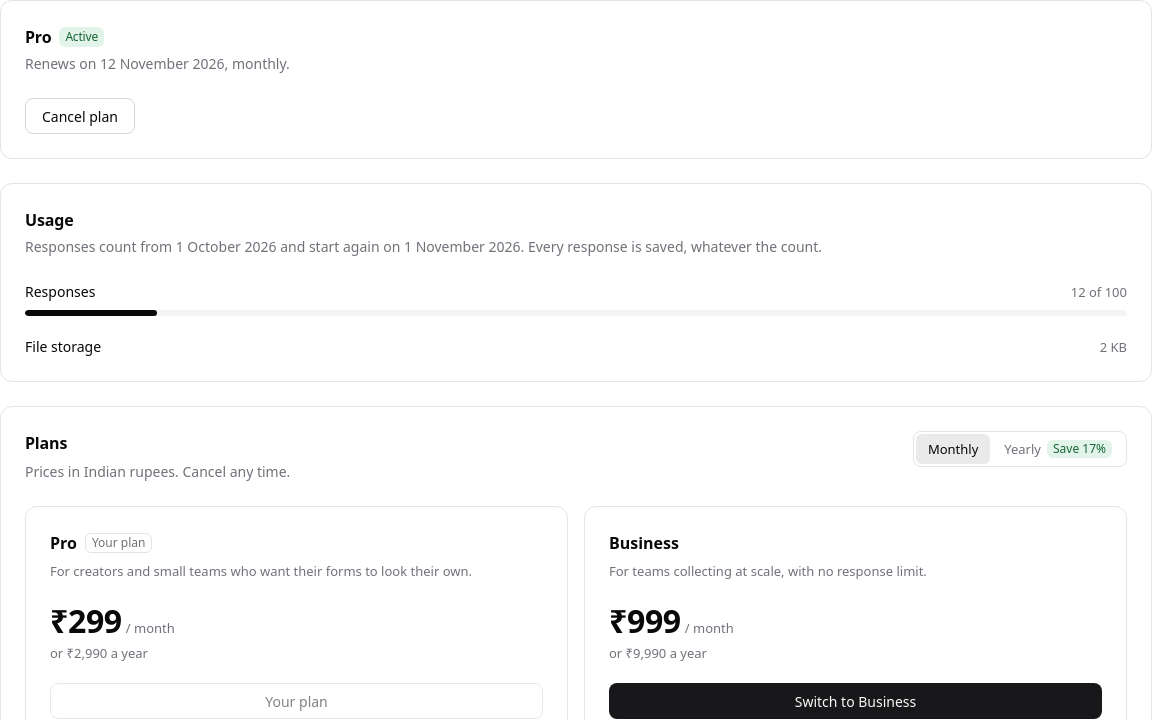
Test: BillingPage › cancels at the end of the period, with the reason if given
Click the button "Cancel plan": [80, 116] box [25,98,135,134]
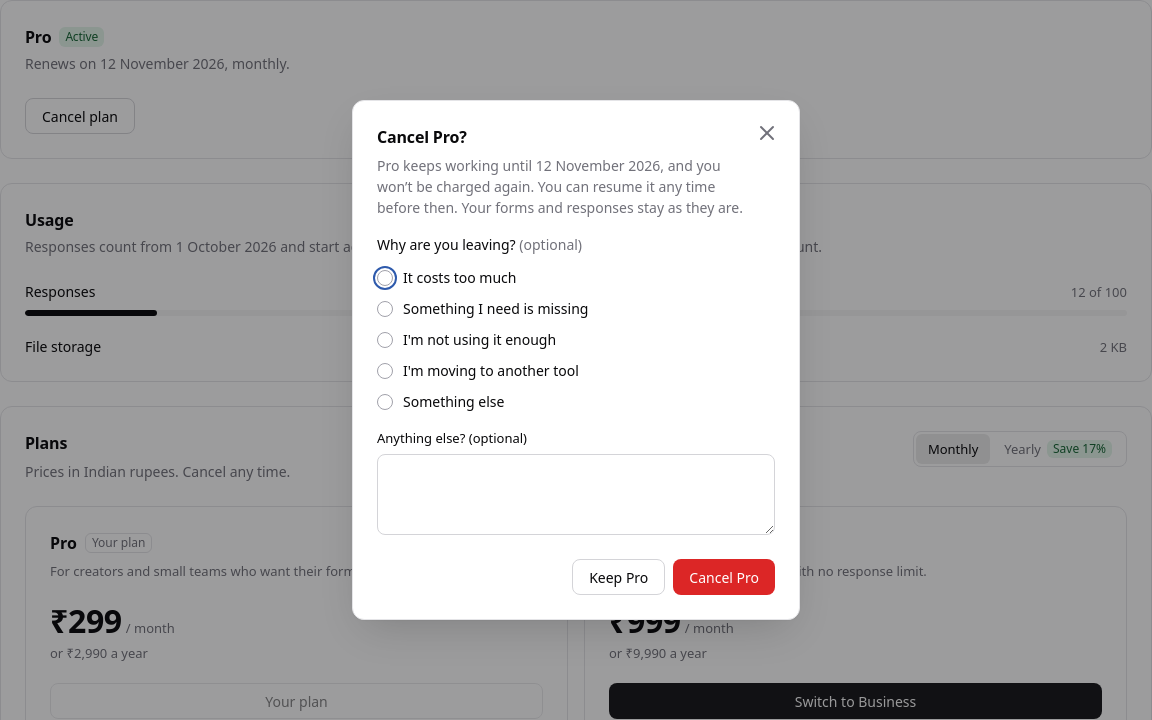
Result: the text "keeps working until 12 November 2026" is shown at [377,156,721,217]
Click the radio button named "It costs too much" next to "It costs too much": [385, 278] box [377,270,393,286]
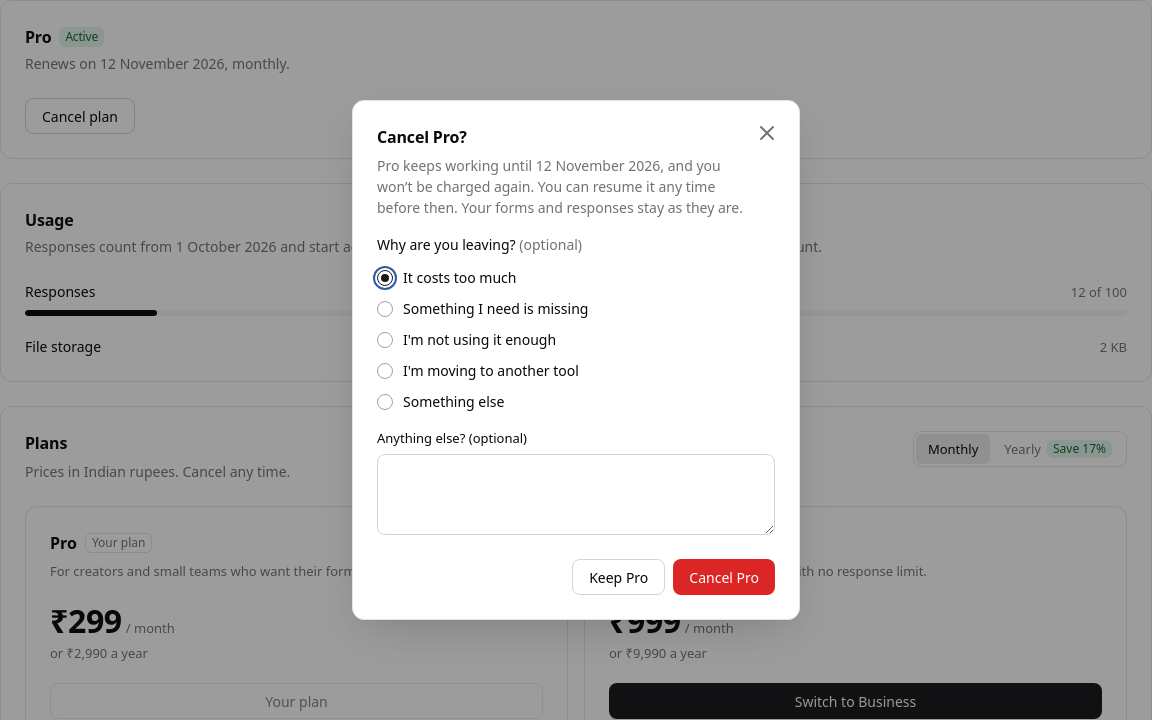
Click the button "Cancel Pro": [724, 577] box [673,559,775,595]
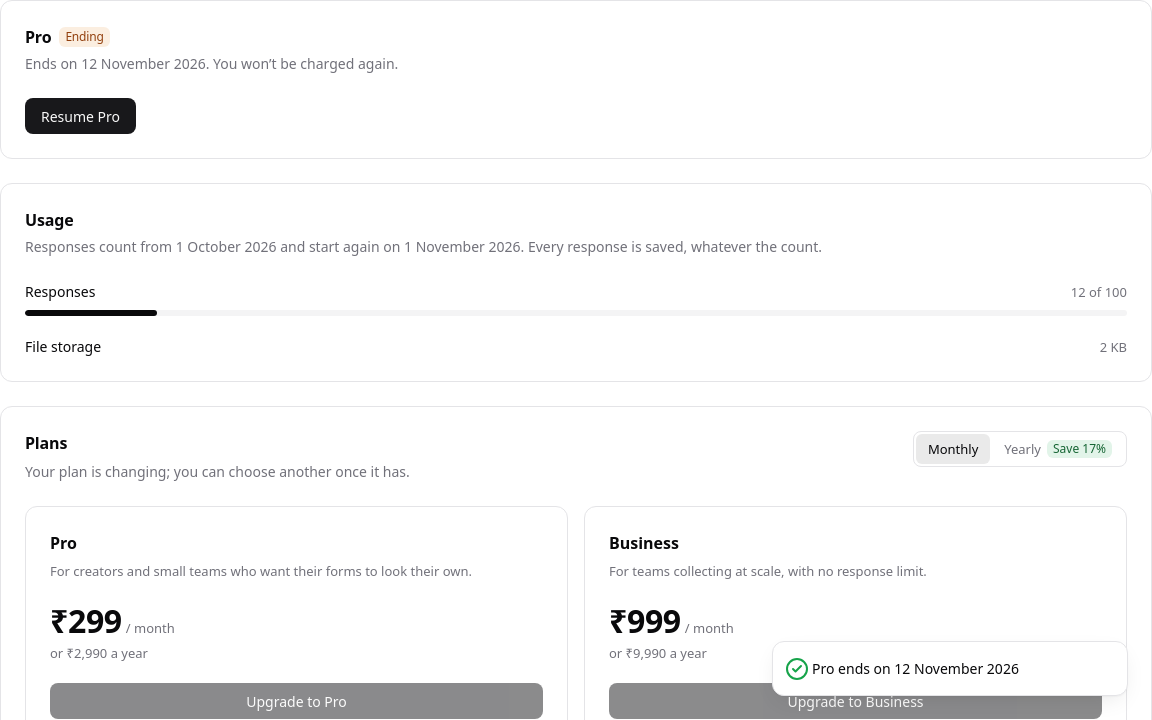
Result: the text "Pro ends on 12 November 2026" is shown at [812,658,1019,679]
Result: the button "Resume Pro" is shown at [25,98,136,134]
